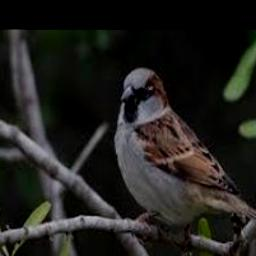Sparrow: (113, 67, 256, 239)
